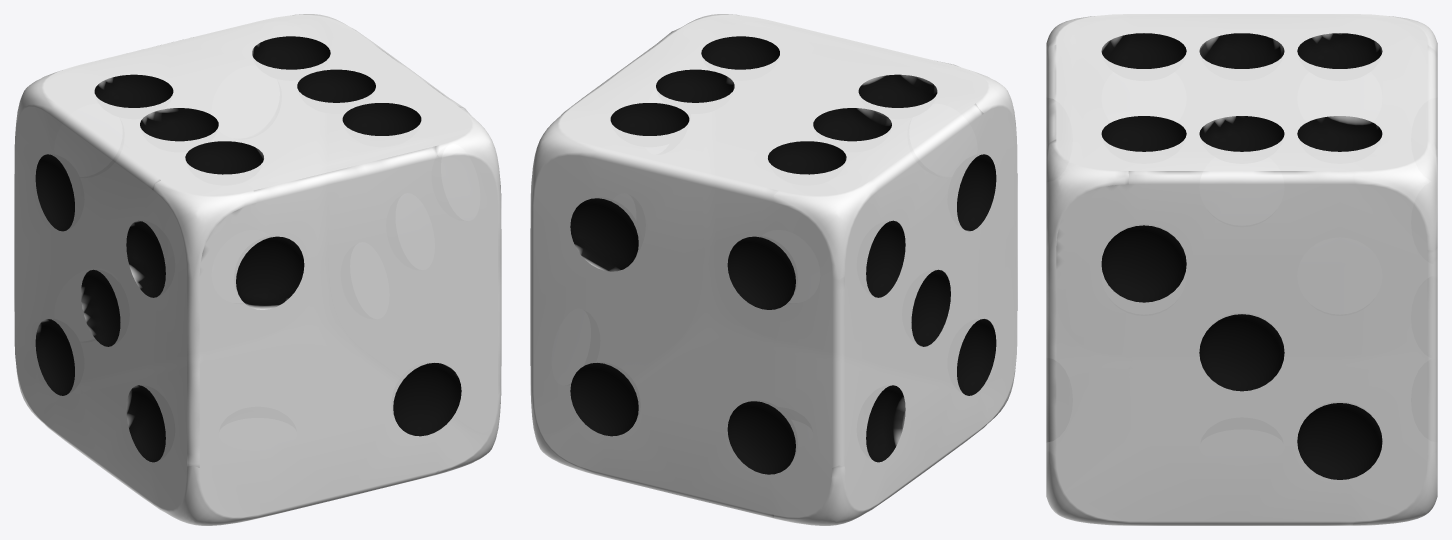
3 views of the same model, side by side, from view 1: azimuth 30°, elevation 25°; view 2: azimuth 150°, elevation 25°; view 3: azimuth 270°, elevation 25° (orthographic). The views are drawn at different scales.
Parts seen in each view (by area): view 1: g (×2); view 2: g (×2); view 3: g (×2).
Part boxes in pixels (box(x1,y1,x2,y2)): g (×2): box(14, 14, 501, 525); g (×2): box(530, 14, 1017, 525); g (×2): box(1046, 14, 1437, 525).
Size of the model in its own units: 2 by 2 by 2.
Materials: 1 (1 with a texture image).
